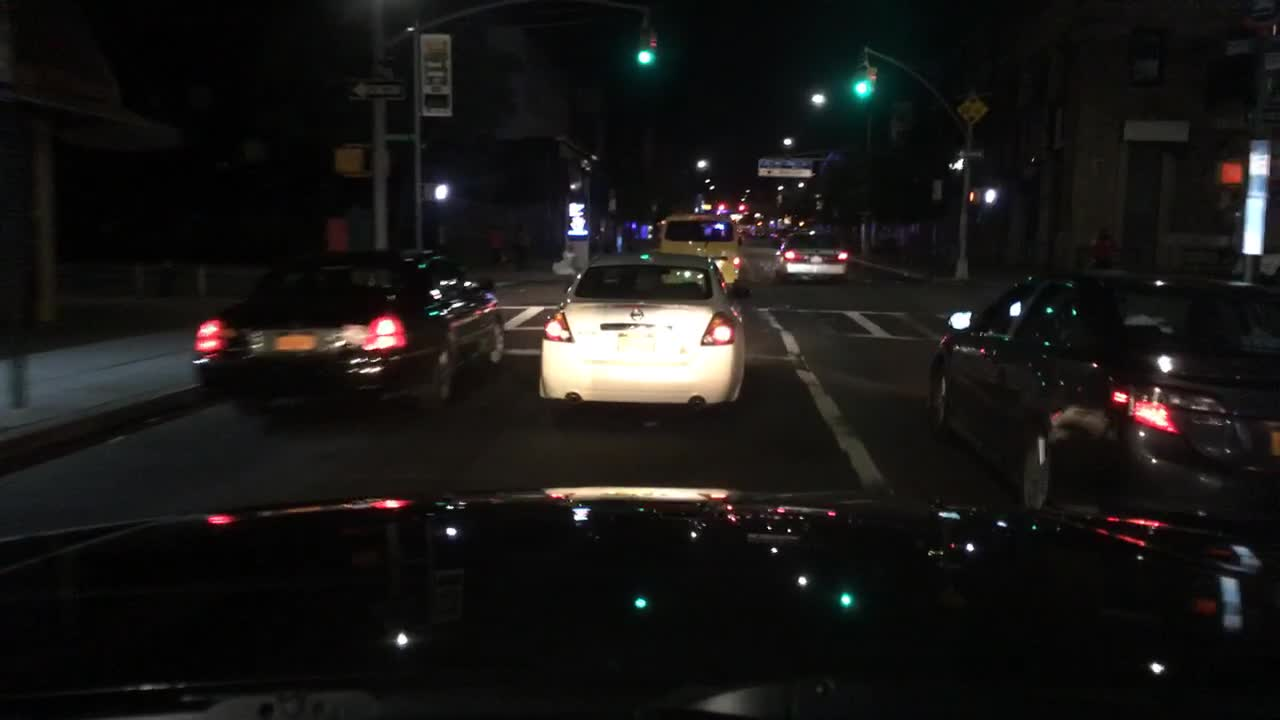car: (927, 267, 1278, 546), (189, 245, 504, 423), (535, 251, 749, 420), (652, 211, 744, 291), (774, 214, 852, 284), (767, 225, 793, 245), (735, 225, 747, 244)
person: (1088, 226, 1117, 268)
traffic light: (335, 144, 366, 175), (853, 65, 870, 97), (647, 33, 662, 67), (425, 181, 448, 203), (635, 33, 649, 65), (869, 60, 880, 99), (981, 186, 1000, 205), (969, 187, 979, 204), (735, 202, 747, 213), (716, 201, 726, 213)
traffic sign: (1122, 57, 1184, 140), (419, 33, 452, 117), (759, 155, 813, 177), (354, 81, 408, 100), (959, 88, 986, 126), (956, 145, 983, 158)
